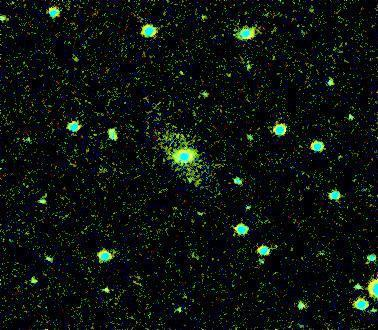star: (59, 45, 89, 75)
